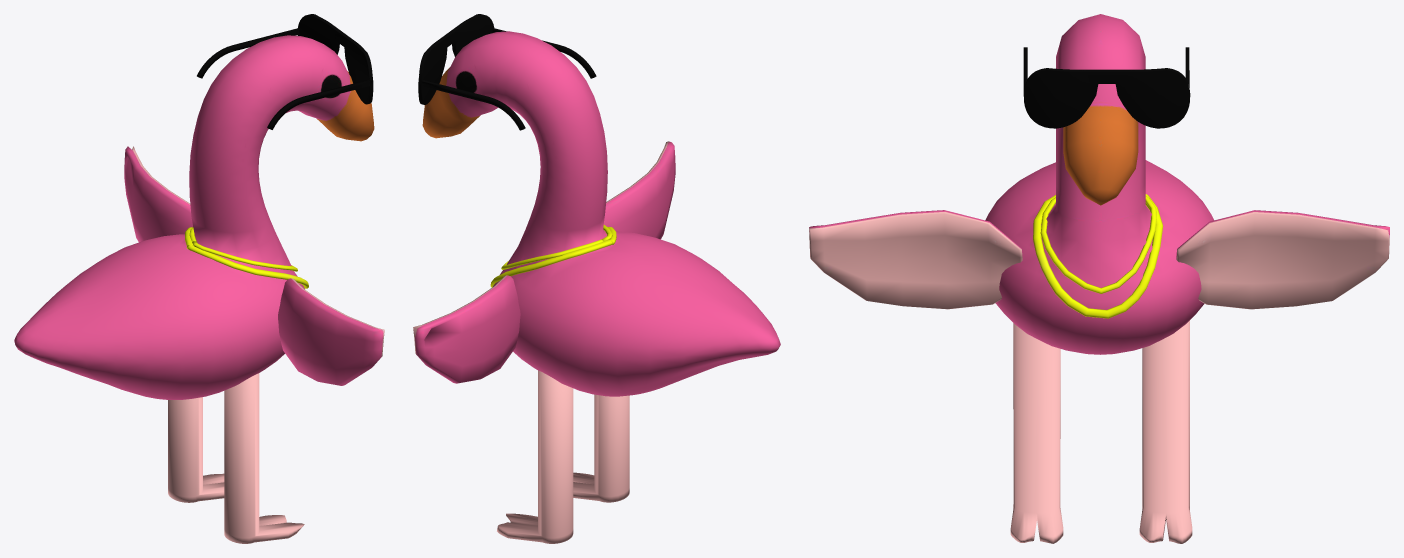
File: pinky.glb
3 views of the same model, side by side, from view 1: azimuth 30°, elevation 25°; view 2: azimuth 150°, elevation 25°; view 3: azimuth 270°, elevation 25° (orthographic). The views are drawn at different scales.
Parts seen in each view (by area): view 1: Pinky.001; view 2: Pinky.001; view 3: Pinky.001.
Part boxes in pixels (bbox=[...]): Pinky.001: bbox=[14, 14, 384, 543]; Pinky.001: bbox=[413, 14, 780, 543]; Pinky.001: bbox=[809, 14, 1389, 543].
Size of the model in its own units: 9.12 by 11.37 by 11.31.
Materials: 1 (1 with a texture image).
